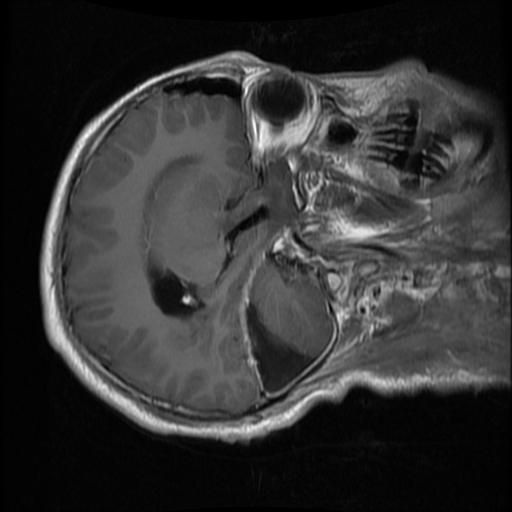glioma: (247, 301, 317, 397)
